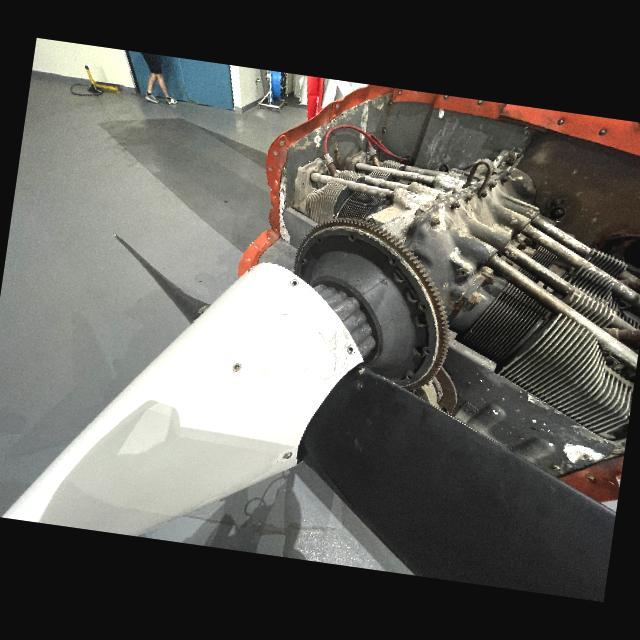Missing Fastener: (344, 344, 358, 358), (288, 276, 302, 288)
